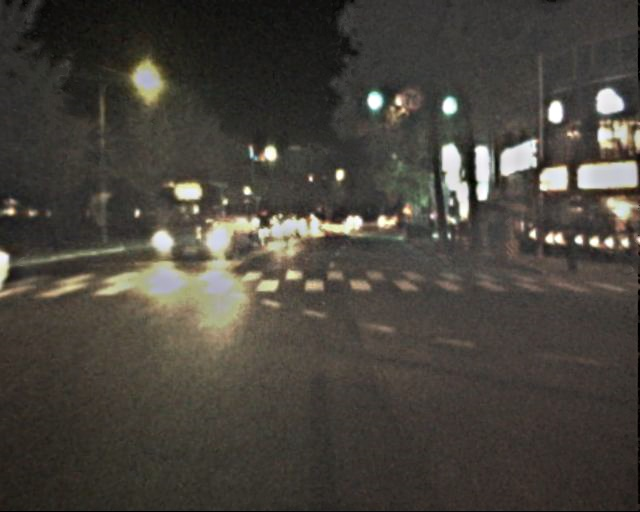person: (558, 225, 581, 272), (486, 215, 502, 254)
